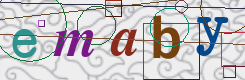a: (110, 27, 139, 58)
b: (152, 13, 181, 60)
e: (12, 28, 38, 59)
m: (53, 28, 95, 58)
y: (196, 15, 228, 57)
